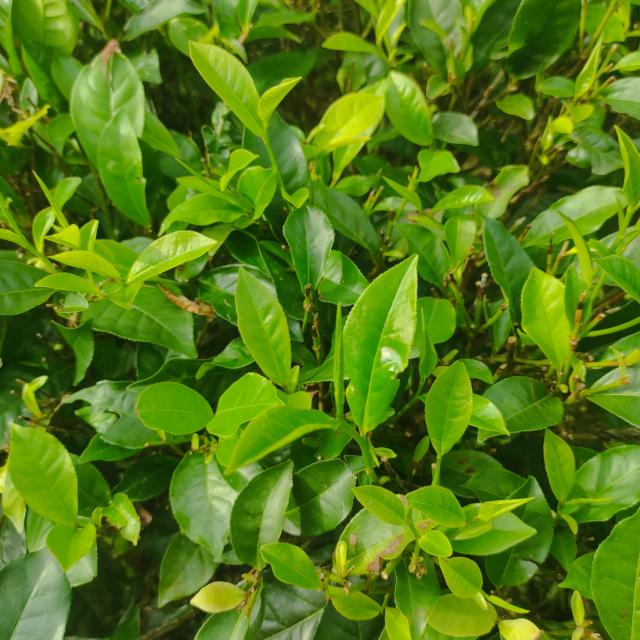unopened_leaf: (170, 150, 237, 205), (331, 294, 352, 428), (30, 167, 74, 229), (0, 196, 40, 261), (556, 486, 632, 514), (612, 191, 629, 229)
